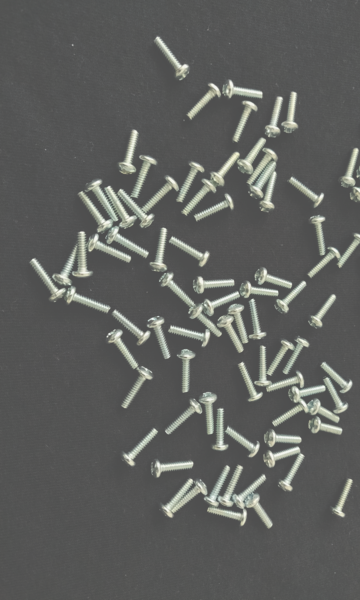shortscrew: (28, 258, 67, 303), (119, 428, 159, 468), (117, 187, 155, 229), (155, 36, 190, 81), (77, 191, 114, 233), (84, 178, 118, 223), (158, 477, 195, 518), (119, 366, 154, 409), (142, 175, 180, 214), (112, 309, 151, 347), (164, 398, 203, 436), (106, 226, 149, 260), (158, 271, 196, 309), (170, 478, 209, 515), (184, 83, 221, 121), (181, 178, 217, 217), (104, 185, 136, 228), (106, 329, 140, 369), (169, 236, 211, 268), (64, 285, 110, 314), (286, 175, 325, 209), (176, 160, 206, 204), (87, 234, 132, 263), (53, 238, 80, 286), (229, 100, 258, 144), (217, 463, 245, 508), (232, 475, 268, 510), (193, 193, 234, 223), (188, 303, 223, 338), (248, 148, 279, 187), (276, 453, 306, 493), (131, 155, 158, 199), (274, 279, 307, 315), (318, 361, 354, 394), (306, 293, 338, 330), (248, 160, 277, 200), (209, 151, 240, 188), (204, 465, 230, 509), (237, 137, 267, 175), (283, 336, 311, 376), (225, 427, 261, 458), (116, 129, 140, 175), (238, 361, 264, 403), (217, 315, 245, 354), (306, 247, 341, 278), (146, 317, 171, 360), (245, 493, 274, 530), (72, 231, 94, 279), (268, 338, 295, 377), (168, 324, 211, 348), (323, 376, 350, 414), (200, 292, 241, 317), (253, 267, 293, 291), (330, 478, 354, 518), (338, 147, 360, 189), (223, 79, 263, 102), (226, 304, 249, 344), (266, 371, 305, 394), (307, 398, 341, 424), (264, 95, 284, 139), (337, 232, 360, 270), (177, 348, 196, 394), (247, 298, 267, 341), (262, 447, 301, 469), (149, 228, 168, 273), (193, 275, 235, 295), (208, 506, 248, 527), (280, 91, 299, 134), (259, 171, 278, 214), (199, 393, 218, 436), (210, 409, 229, 452), (308, 216, 328, 256), (240, 280, 280, 299), (255, 346, 272, 389), (287, 386, 327, 404), (307, 416, 343, 436), (263, 428, 302, 446), (348, 174, 360, 203), (356, 162, 360, 183)
